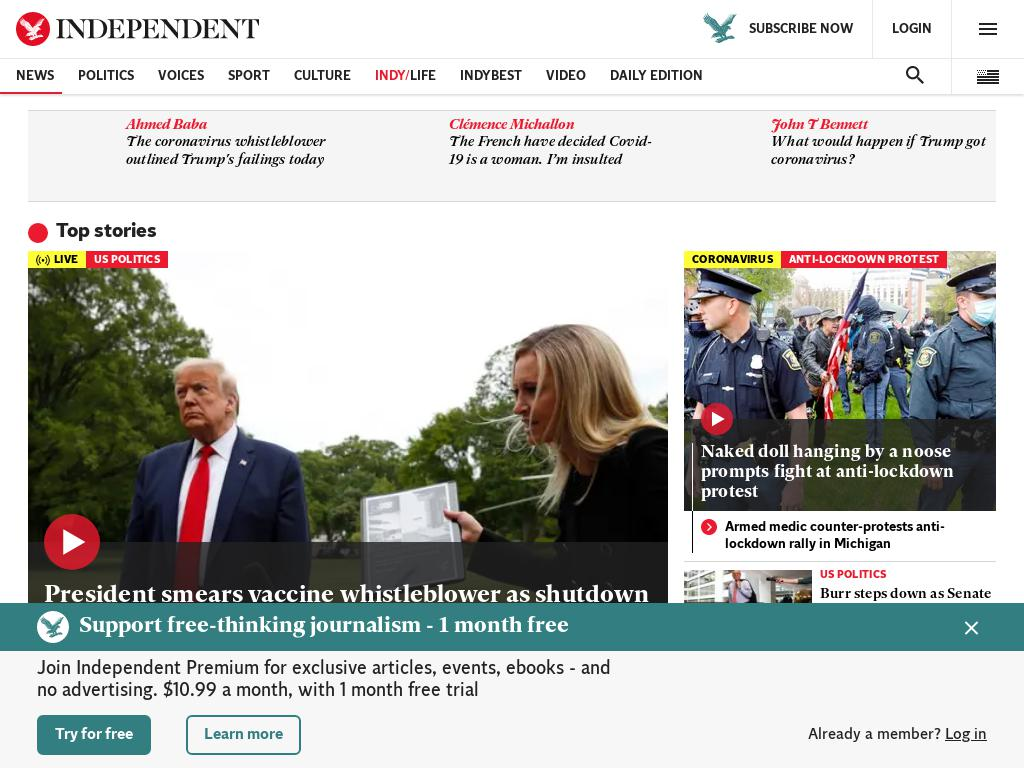button: (28, 251, 668, 758), (684, 251, 996, 511), (44, 582, 652, 638), (692, 443, 988, 511), (684, 570, 813, 656), (684, 672, 813, 758), (72, 650, 652, 667), (72, 675, 652, 692), (72, 700, 652, 717), (72, 725, 652, 742), (713, 519, 996, 553), (16, 12, 259, 46), (952, 0, 1024, 58), (594, 59, 711, 94), (873, 8, 951, 50), (444, 59, 530, 94), (359, 59, 444, 94), (780, 251, 948, 268), (278, 59, 359, 94), (62, 59, 142, 94), (952, 59, 1024, 94), (142, 59, 212, 94), (212, 59, 278, 94), (530, 59, 594, 94), (0, 59, 62, 94), (86, 251, 168, 268)
heading: (44, 582, 652, 638), (701, 443, 988, 503), (28, 222, 157, 243)
iframe: (0, 603, 1024, 768), (352, 718, 672, 768)
image: (28, 251, 668, 758), (684, 251, 996, 511), (684, 570, 813, 656), (684, 672, 813, 758), (56, 12, 259, 46), (16, 12, 50, 46), (703, 12, 737, 44), (977, 69, 999, 84), (906, 66, 924, 84), (979, 23, 997, 35)
link: (749, 22, 853, 36)
text: (28, 542, 668, 758), (684, 419, 996, 511), (819, 689, 993, 741), (819, 587, 991, 638), (771, 135, 987, 168), (448, 135, 653, 168), (126, 135, 325, 168), (448, 119, 666, 133), (126, 119, 343, 133), (771, 119, 988, 133), (780, 251, 948, 268), (684, 251, 781, 268), (86, 251, 168, 268), (28, 251, 87, 268), (819, 672, 886, 684), (819, 570, 886, 581), (375, 70, 410, 83), (410, 70, 436, 83)
